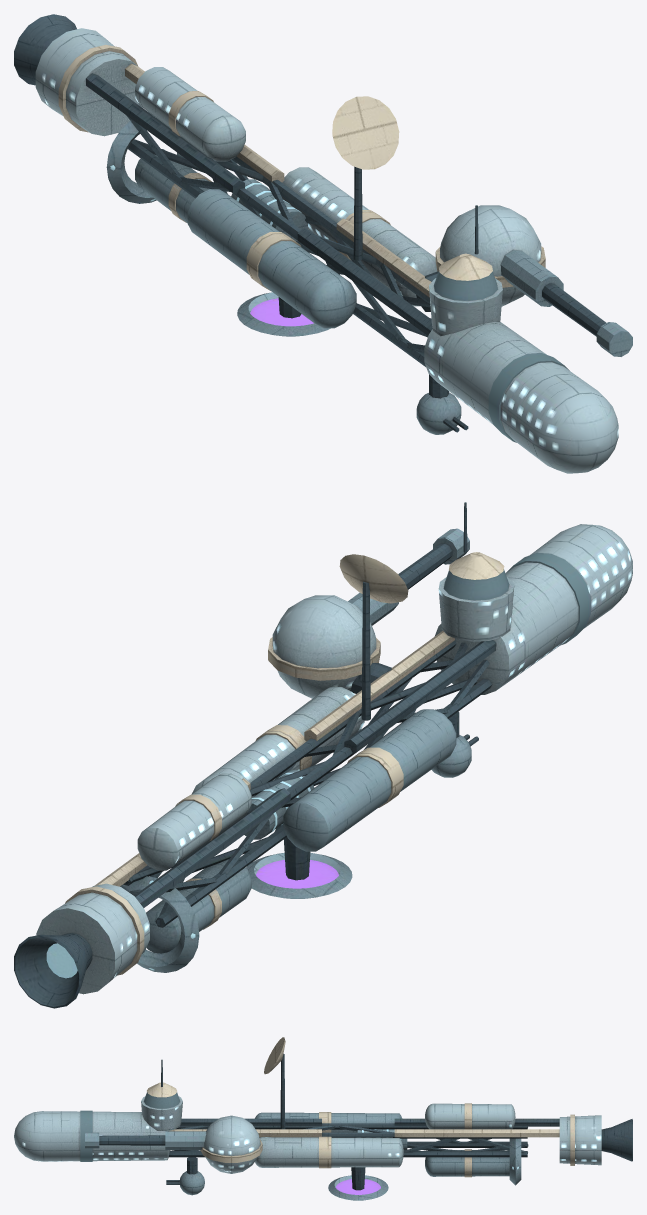
File: pell_picket.glb
3 renders of one model, top to bottom at view 1: azimuth 30°, elevation 25°; view 2: azimuth 150°, elevation 25°; view 3: azimuth 270°, elevation 25°, orthographic. The views are drawn at different scales.
Parts seen in each view (by area): view 1: HULL, SYS_DRIVE, SYS_WPN1, SYS_BRIDGE, SYS_SENSORS, SYS_BUS_F, SYS_BUS_A, SYS_DAMP, SYS_PD, SYS_JUMP, SYS_REACTOR; view 2: HULL, SYS_DRIVE, SYS_WPN1, SYS_BRIDGE, SYS_BUS_F, SYS_DAMP, SYS_BUS_A, SYS_SENSORS, SYS_JUMP, SYS_PD, SYS_REACTOR; view 3: HULL, SYS_WPN1, SYS_DRIVE, SYS_BUS_A, SYS_BRIDGE, SYS_BUS_F, SYS_DAMP, SYS_SENSORS, SYS_PD, SYS_JUMP.
Part boxes in pixels (x1,y1,x2,y2): HULL: (126, 67, 618, 473); SYS_DRIVE: (14, 14, 142, 136); SYS_WPN1: (416, 205, 632, 356); SYS_BRIDGE: (429, 205, 502, 335); SYS_SENSORS: (332, 96, 399, 260); SYS_BUS_F: (297, 218, 432, 335); SYS_BUS_A: (86, 63, 284, 194); SYS_DAMP: (237, 292, 330, 336); SYS_PD: (416, 374, 468, 434); SYS_JUMP: (106, 112, 182, 203); SYS_REACTOR: (231, 179, 307, 241); HULL: (123, 524, 632, 953); SYS_DRIVE: (14, 883, 149, 1008); SYS_WPN1: (268, 528, 469, 698); SYS_BRIDGE: (438, 502, 514, 641); SYS_BUS_F: (304, 631, 496, 753); SYS_DAMP: (246, 837, 352, 898); SYS_BUS_A: (94, 778, 290, 907); SYS_SENSORS: (339, 554, 408, 720); SYS_JUMP: (120, 876, 199, 972); SYS_PD: (431, 711, 478, 777); SYS_REACTOR: (244, 770, 314, 839); HULL: (14, 1103, 528, 1177); SYS_WPN1: (85, 1115, 262, 1173); SYS_DRIVE: (559, 1114, 632, 1165); SYS_BUS_A: (394, 1118, 559, 1137); SYS_BRIDGE: (141, 1059, 182, 1130); SYS_BUS_F: (169, 1118, 321, 1137); SYS_DAMP: (328, 1167, 388, 1200); SYS_SENSORS: (264, 1037, 285, 1129); SYS_PD: (166, 1157, 204, 1195); SYS_JUMP: (509, 1138, 521, 1185).
Bounding box in the file's own units: 4.96 × 6.47 × 23.44.
Materials: 1 (1 with a texture image).
